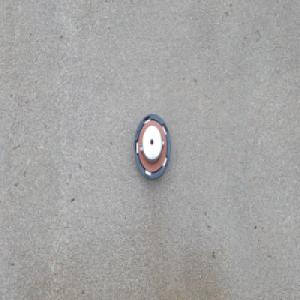FuelCap: (132, 109, 171, 179)
